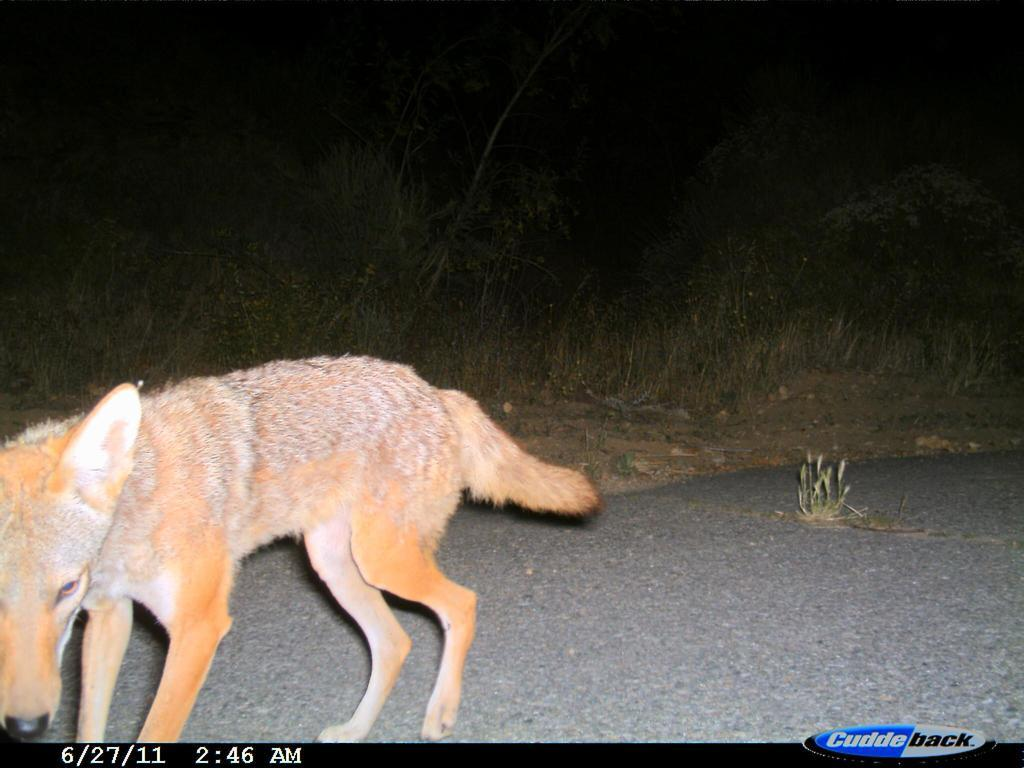coyote: (1, 345, 602, 745)
